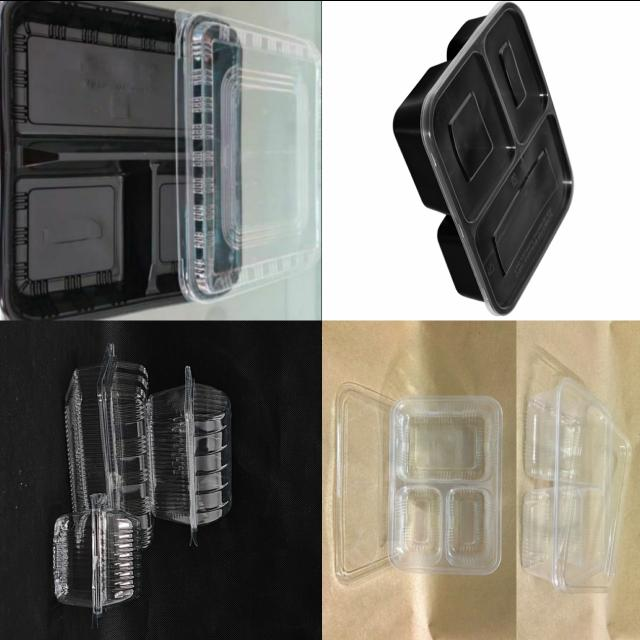plastik: (0, 0, 319, 318), (394, 1, 572, 314), (65, 344, 231, 546), (522, 378, 632, 592), (388, 395, 501, 574), (149, 365, 231, 539), (335, 383, 394, 582), (53, 493, 140, 622)
